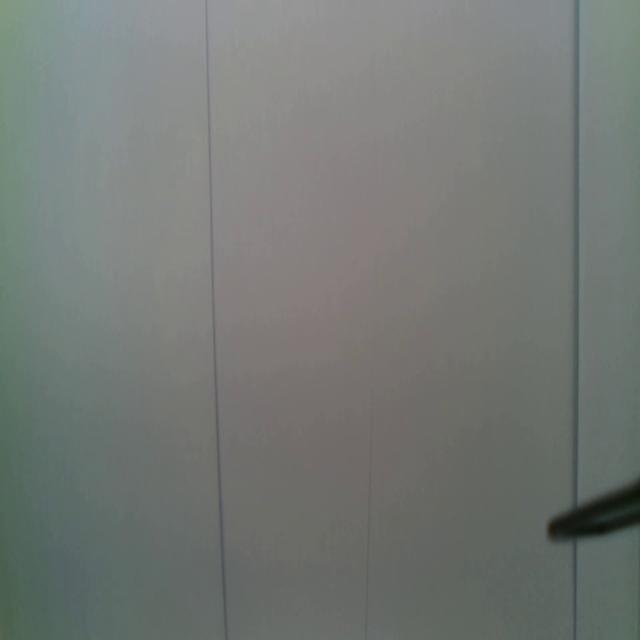crease: (204, 0, 228, 640), (570, 0, 582, 504), (363, 349, 376, 640), (570, 541, 580, 640)
